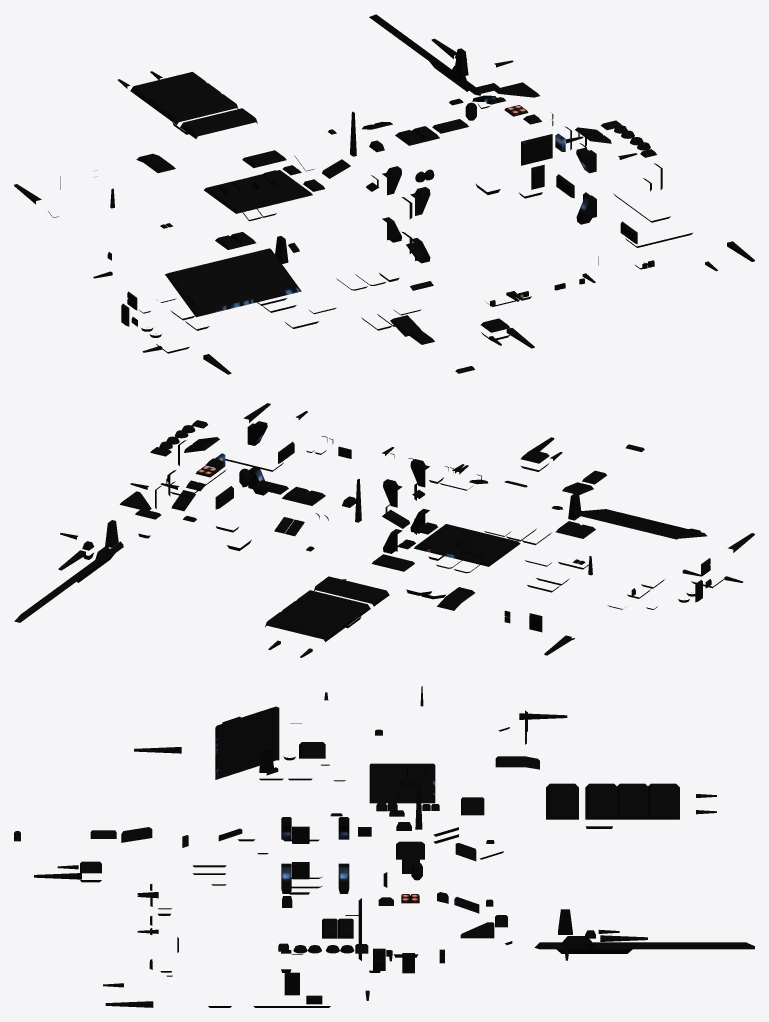
Rendered from hgn_outpost_01.glb.
3 views of the same model, one above another, from view 1: azimuth 30°, elevation 25°; view 2: azimuth 150°, elevation 25°; view 3: azimuth 270°, elevation 25° (orthographic). The views are drawn at different scales.
Visible parts, largest first — view 1: hgn_outpost_01_base_LOD0, hgn_outpost_01_part_LOD0; view 2: hgn_outpost_01_base_LOD0, hgn_outpost_01_part_LOD0; view 3: hgn_outpost_01_base_LOD0, hgn_outpost_01_part_LOD0.
Part boxes in pixels (x1=…): hgn_outpost_01_base_LOD0: x1=48, y1=82, x2=693, y2=353; hgn_outpost_01_part_LOD0: x1=14, y1=14, x2=754, y2=374; hgn_outpost_01_base_LOD0: x1=120, y1=420, x2=723, y2=639; hgn_outpost_01_part_LOD0: x1=14, y1=403, x2=754, y2=657; hgn_outpost_01_base_LOD0: x1=149, y1=706, x2=539, y2=1007; hgn_outpost_01_part_LOD0: x1=14, y1=686, x2=754, y2=1007.
Size of what is drawn, in the model's own units: 37.66 by 7.44 by 42.25.
Materials: 2 (2 with a texture image).
